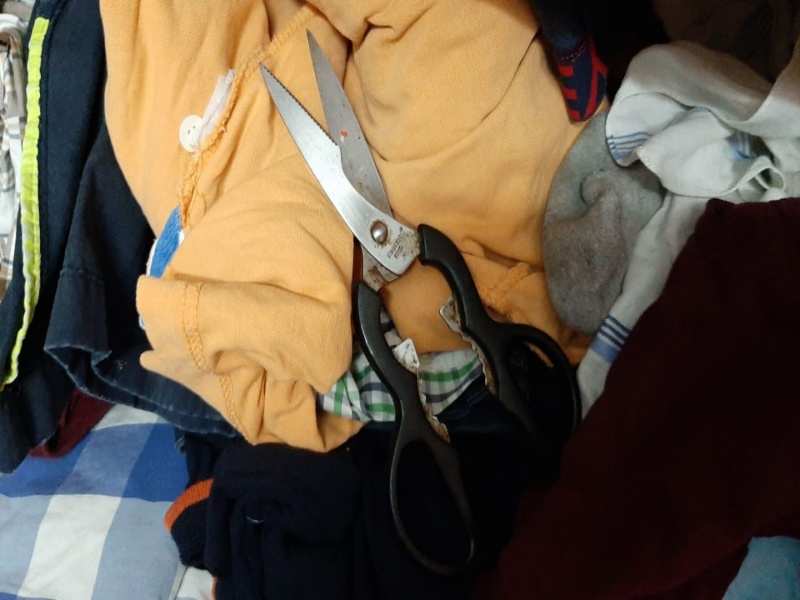scissor: (256, 21, 592, 544)
